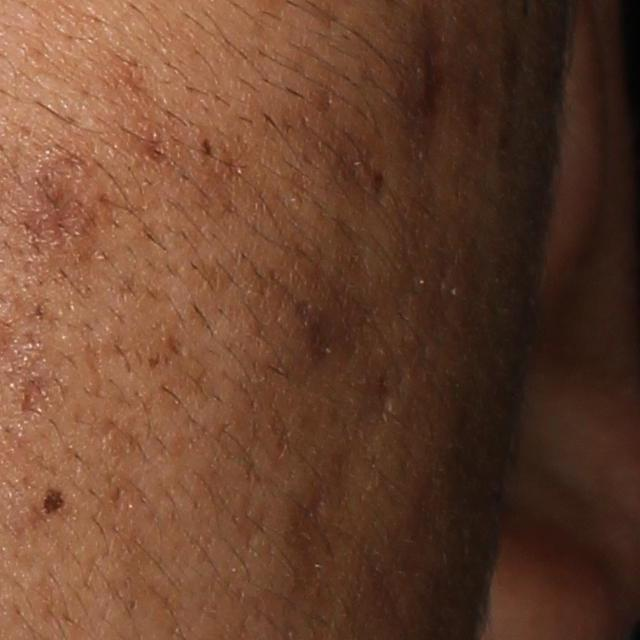nevus: (40, 487, 70, 516)
